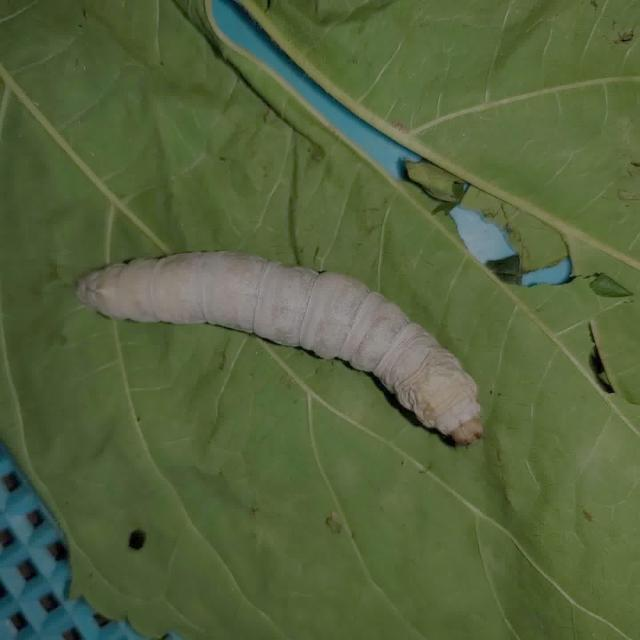Grasserie: (67, 231, 492, 451)
